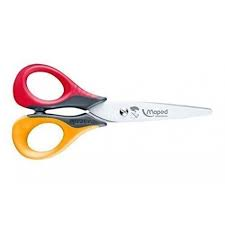tihiras: (7, 61, 215, 164)
